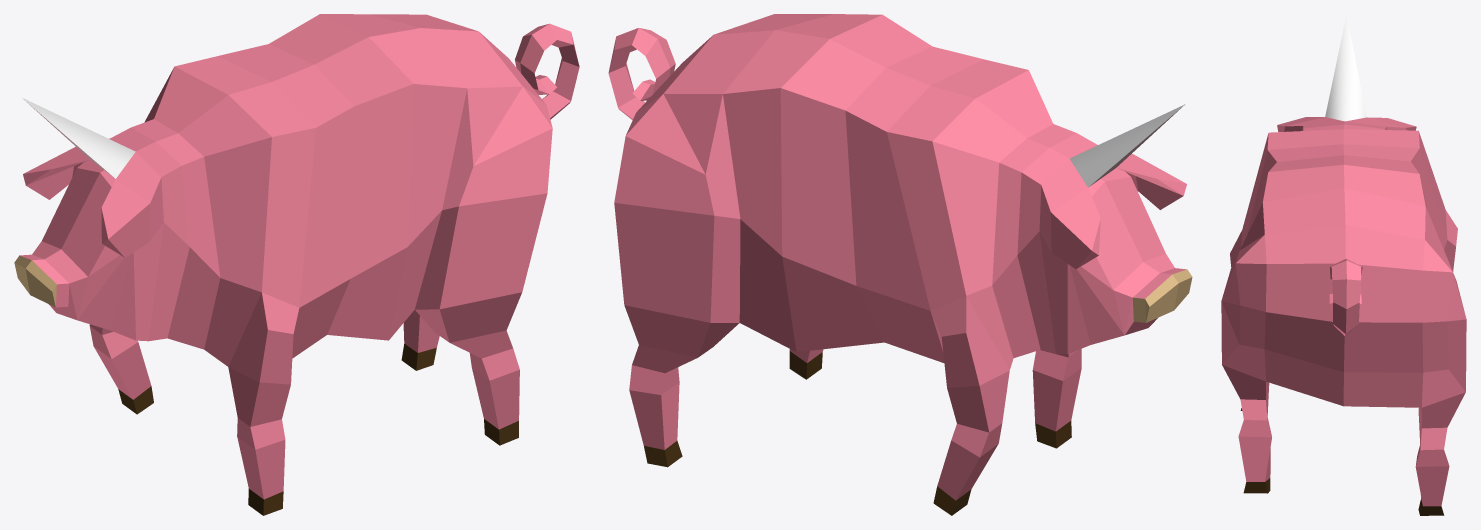
File: pigWalking12.obj
The picture shows the model from 3 angles, left to right: view 1: azimuth 30°, elevation 25°; view 2: azimuth 150°, elevation 25°; view 3: azimuth 270°, elevation 25°; orthographic projection. The views are drawn at different scales.
Parts seen in each view (by area): view 1: Pig_Cylinder; view 2: Pig_Cylinder; view 3: Pig_Cylinder.
Part boxes in pixels (x1=…): Pig_Cylinder: x1=14, y1=14, x2=579, y2=515; Pig_Cylinder: x1=608, y1=14, x2=1192, y2=515; Pig_Cylinder: x1=1221, y1=15, x2=1466, y2=515.
Size of the model in its own units: 22.92 by 16.31 by 11.11.
